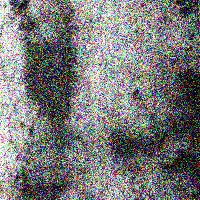inclusion: (0, 150, 40, 184), (4, 1, 29, 21)
patches: (125, 23, 179, 146), (34, 87, 95, 155), (0, 65, 36, 149), (129, 163, 184, 200)
